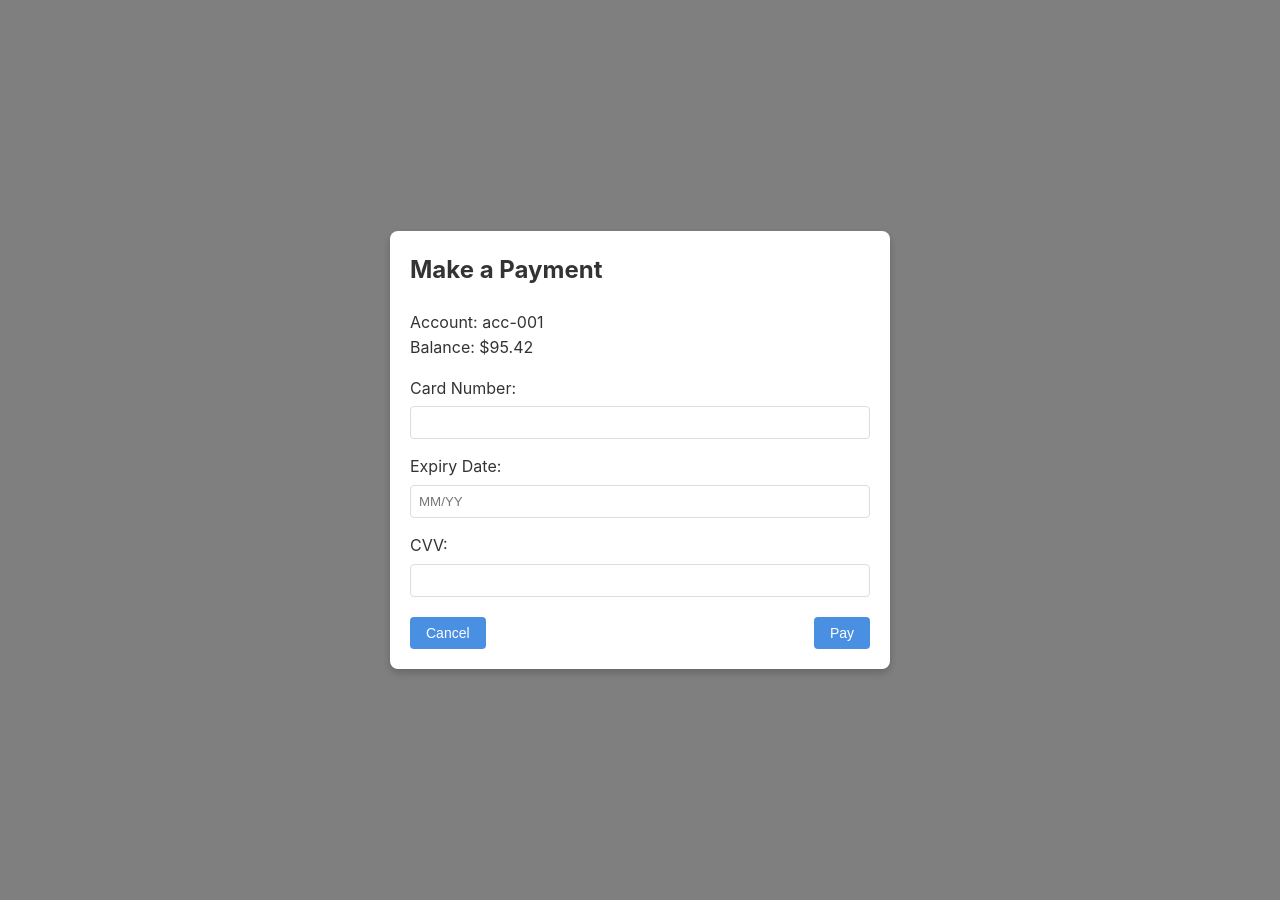
Test: PaymentModal › submits payment when form is filled and Pay button is clicked
Step 1. Type "4111111111111111" into the field labelled "Card Number:" → (640,423), box [410,406,870,440]
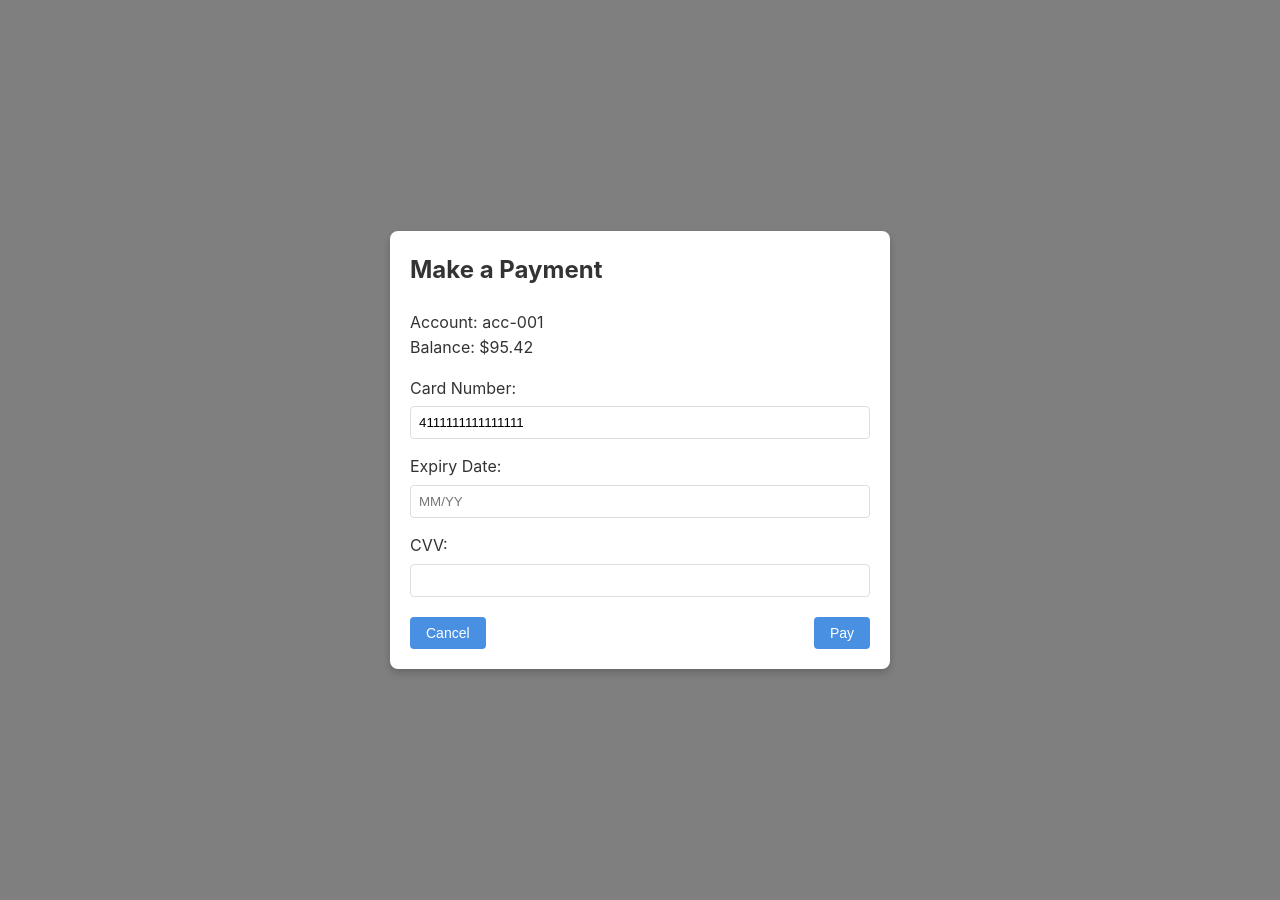
Step 2. Type "12/25" into the field labelled "Expiry Date:" → (640,502), box [410,485,870,518]
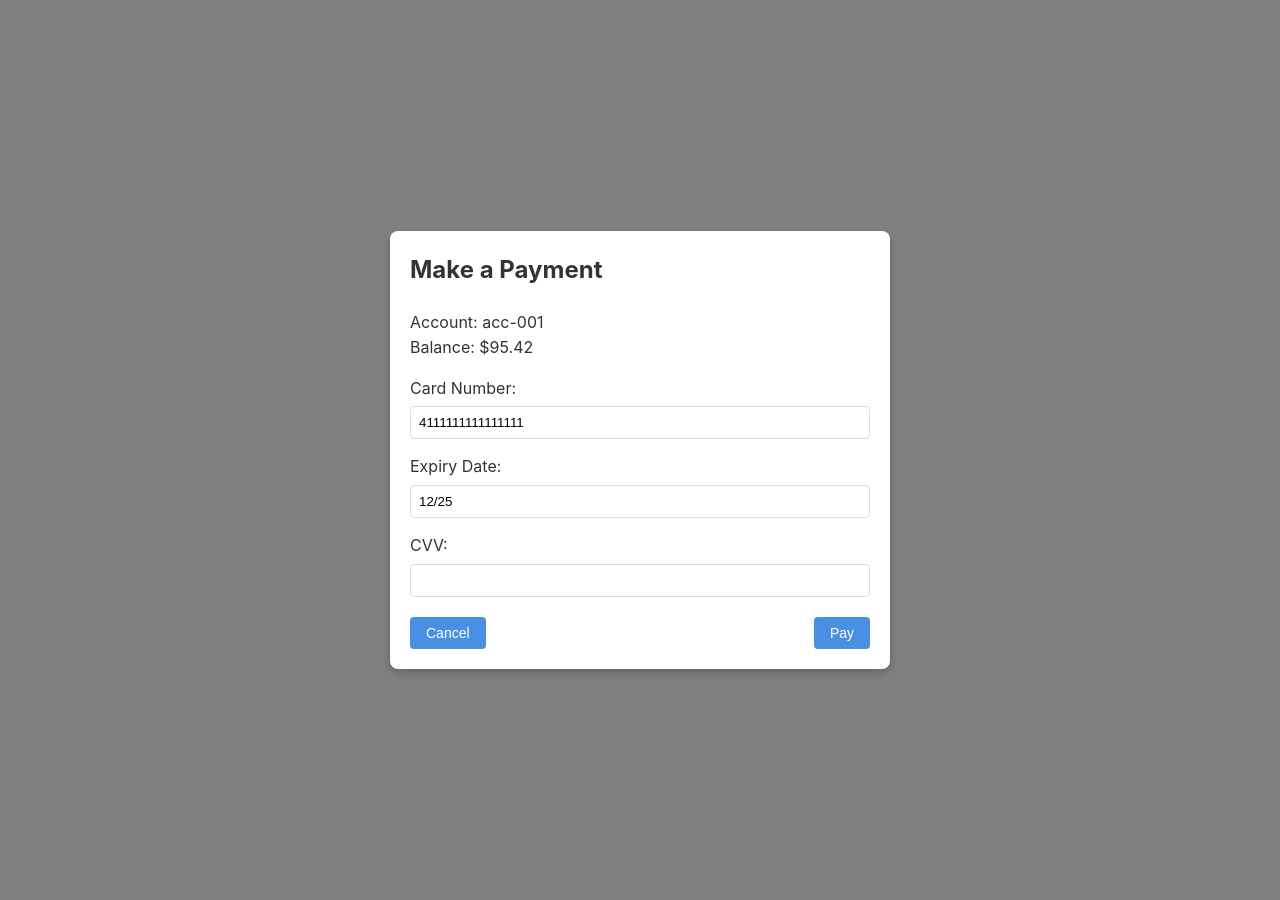
Step 3. Type "123" into the field labelled "CVV:" → (640,580), box [410,564,870,597]
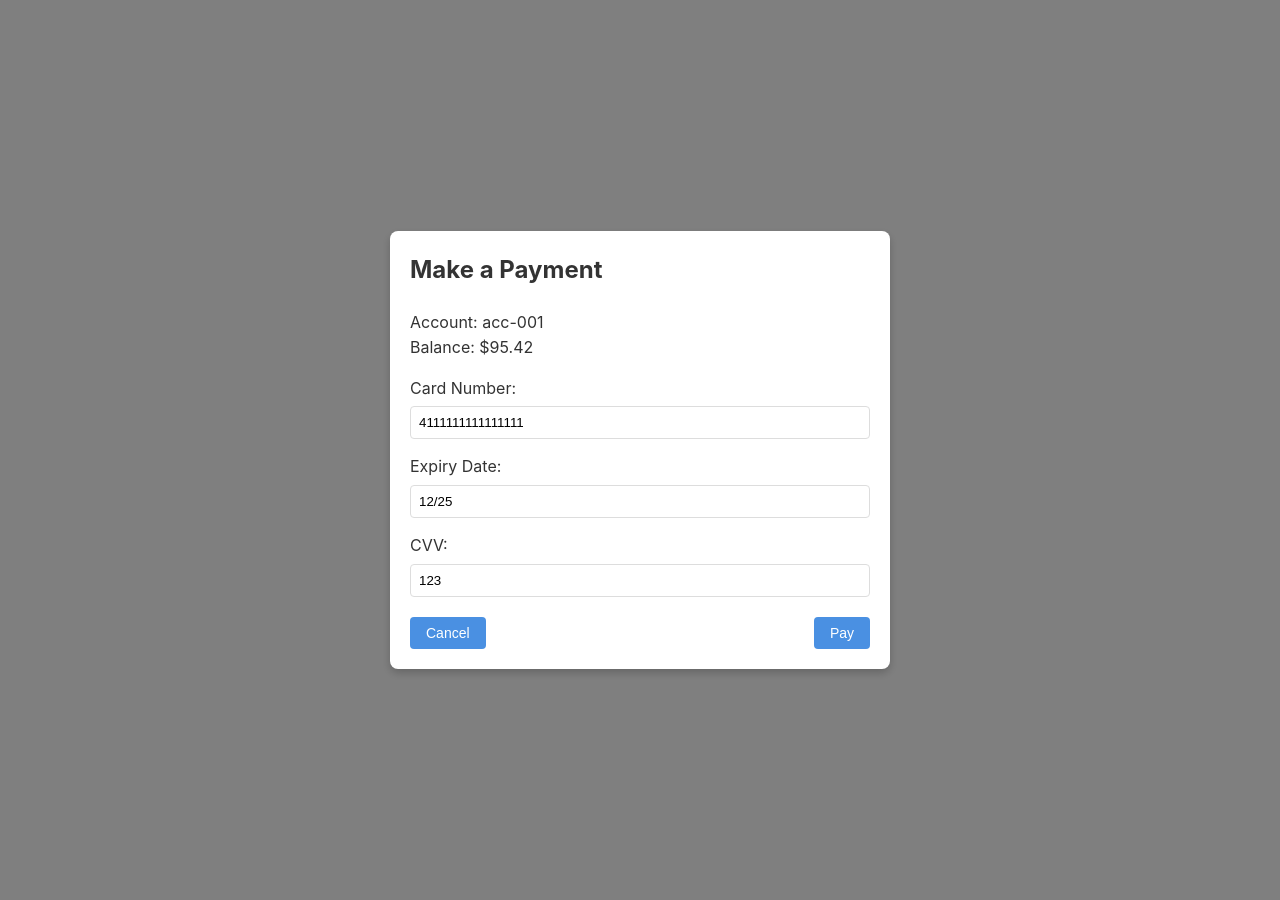
Step 4. Click the button "Pay" → (842,633), box [814,617,870,649]
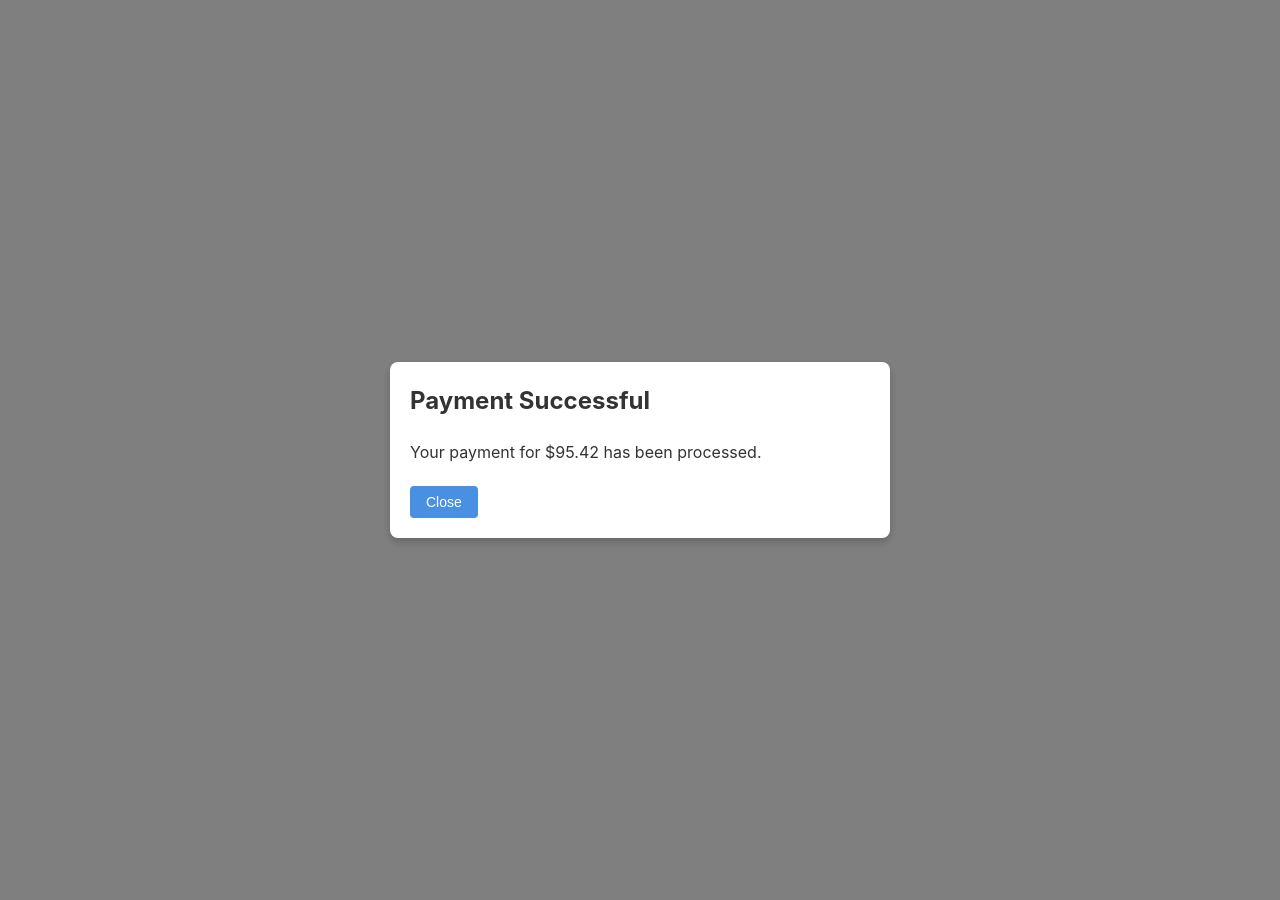
Expected: the heading "Payment Successful" is shown, [410,386,650,415]
